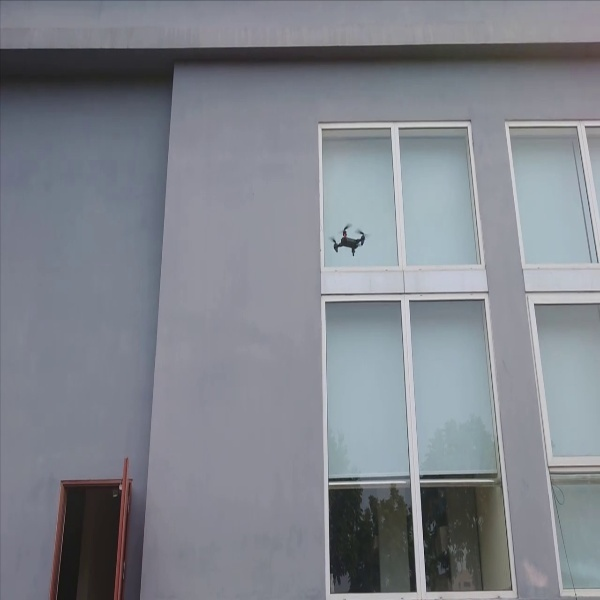drone: (324, 218, 374, 259)
